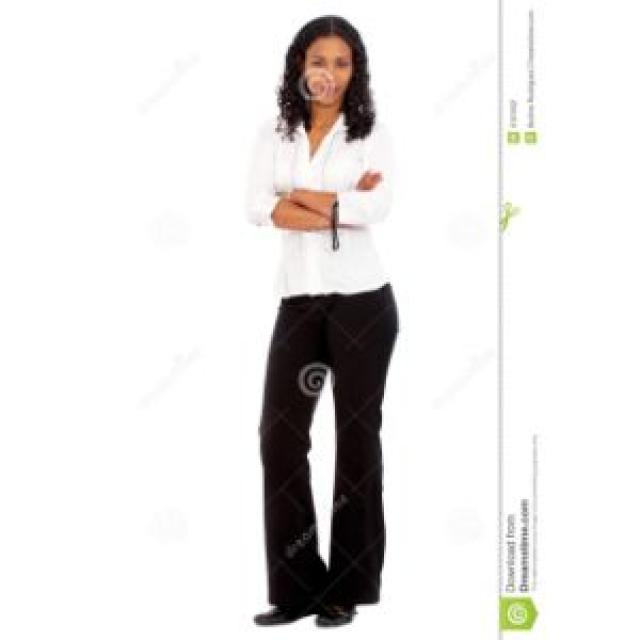adult: (218, 4, 418, 640)
